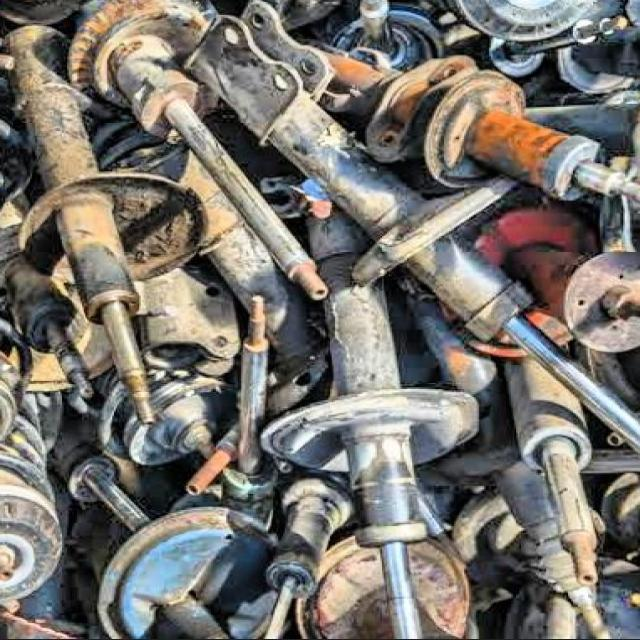shock absorber: (187, 0, 638, 451), (260, 210, 482, 635), (1, 25, 210, 431)
